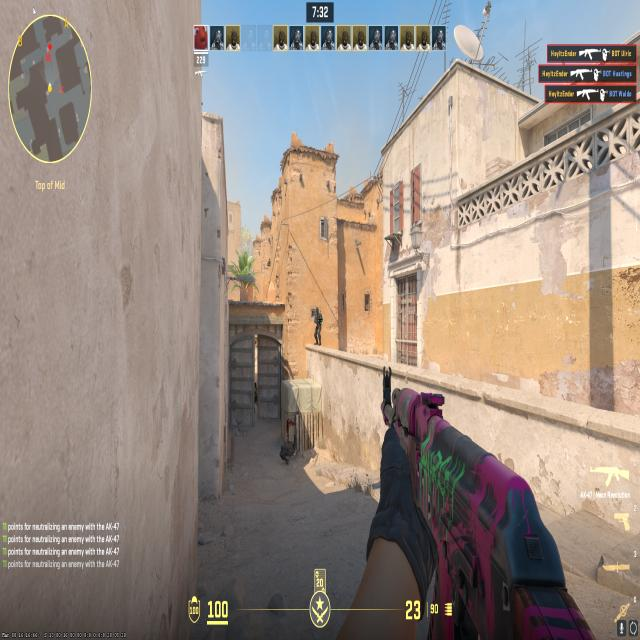ct: (311, 304, 323, 345)
t: (250, 380, 261, 411)
